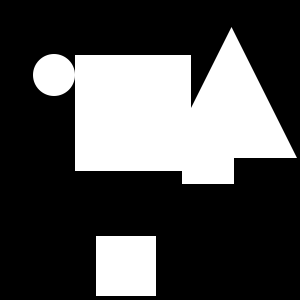circle: (75, 55, 191, 171), (96, 236, 156, 296), (182, 132, 234, 184)
rectangle: (33, 54, 75, 96)
triangle: (166, 27, 297, 158)
